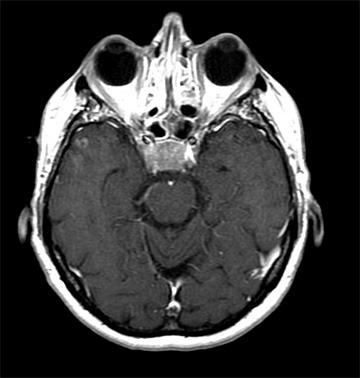Tumour-Pituitary: (138, 130, 201, 176)
